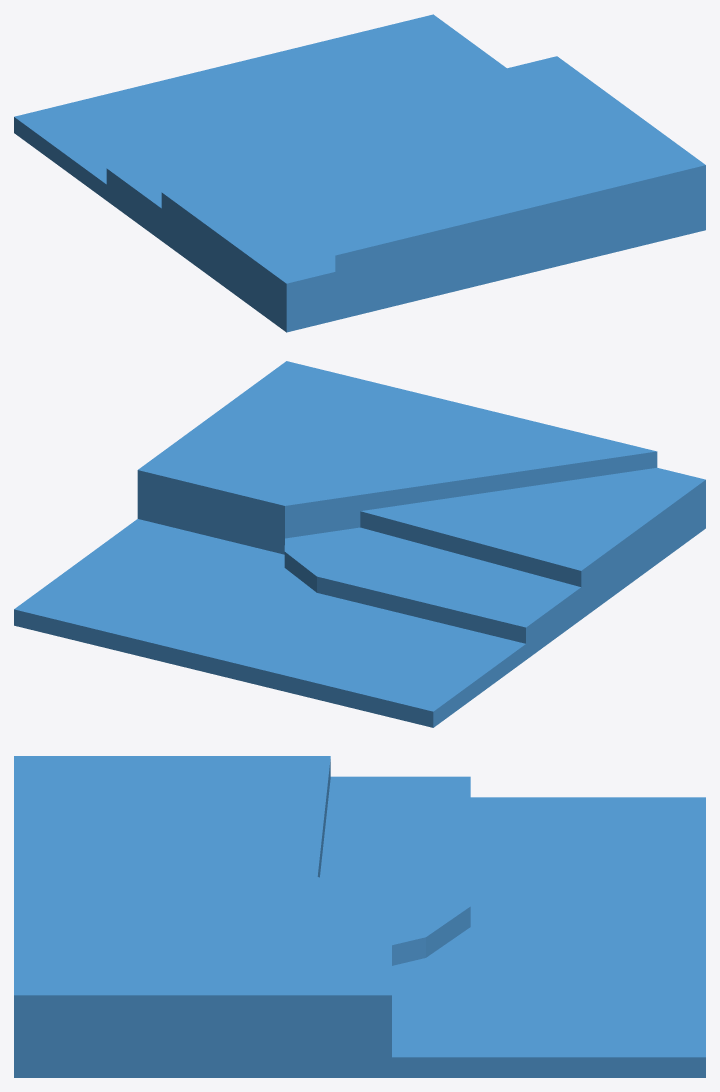
File: New Level 4.fbx
3 views of the same model, one above another, from view 1: azimuth 30°, elevation 25°; view 2: azimuth 150°, elevation 25°; view 3: azimuth 270°, elevation 25° (orthographic). The views are drawn at different scales.
Visible parts, largest first — view 1: New_Level4_1-4, New_Level4_4-4, New_Level4_2-4, New_Level4_3-4; view 2: New_Level4_1-4, New_Level4_4-4, New_Level4_2-4, New_Level4_3-4; view 3: New_Level4_1-4, New_Level4_4-4, New_Level4_3-4, New_Level4_2-4.
Boxes of the visible parts, x1,y1,x2,y2 form: New_Level4_1-4: [335, 56, 705, 320]; New_Level4_4-4: [14, 14, 506, 200]; New_Level4_2-4: [161, 143, 386, 332]; New_Level4_3-4: [106, 117, 396, 240]; New_Level4_1-4: [137, 361, 657, 554]; New_Level4_4-4: [14, 519, 525, 727]; New_Level4_2-4: [360, 467, 705, 619]; New_Level4_3-4: [284, 527, 581, 659]; New_Level4_1-4: [14, 765, 391, 1077]; New_Level4_4-4: [392, 797, 705, 1077]; New_Level4_3-4: [320, 776, 470, 965]; New_Level4_2-4: [14, 756, 330, 877].
Size of the model in its own units: 13483 by 15177 by 2000.
